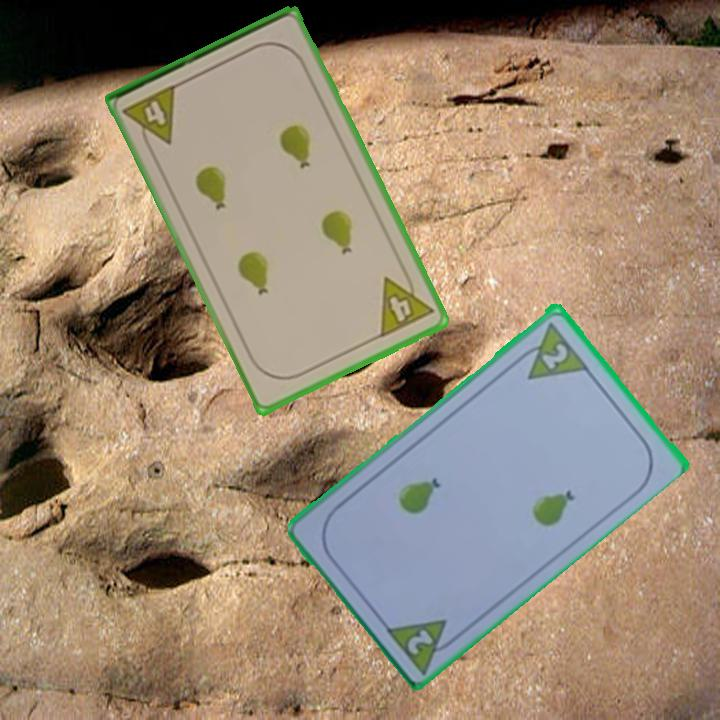2p: (511, 317, 591, 383), (381, 614, 464, 675)
4p: (376, 265, 437, 341), (119, 80, 180, 155)
